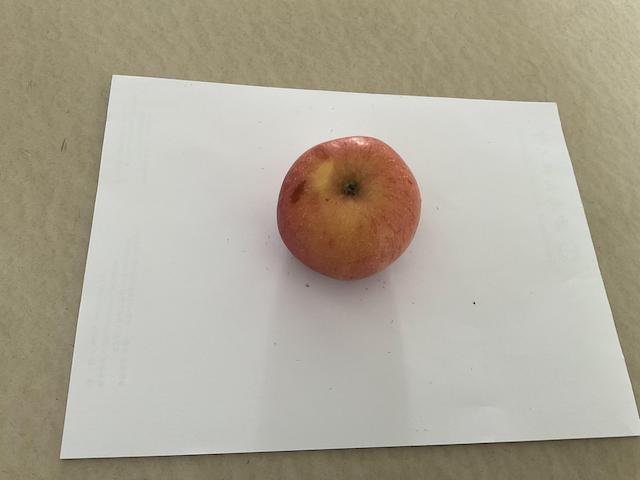apple: (274, 128, 427, 288)
